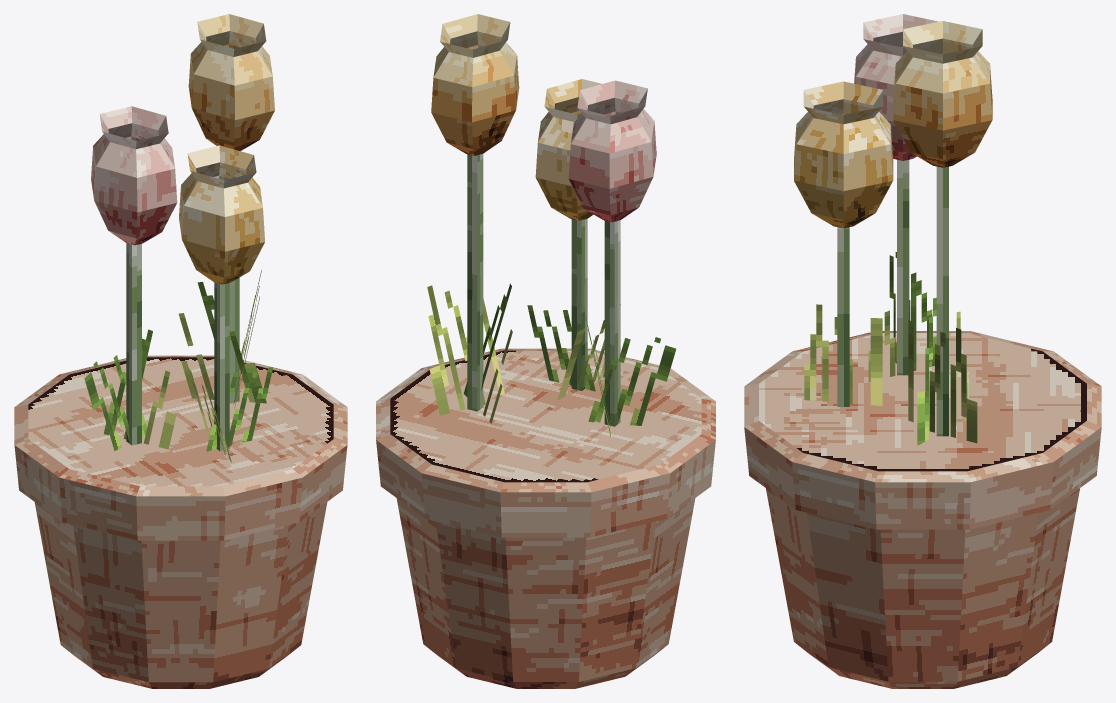
Rendered from potflowers.glb.
The picture shows the model from 3 angles, left to right: view 1: azimuth 30°, elevation 25°; view 2: azimuth 150°, elevation 25°; view 3: azimuth 270°, elevation 25°; orthographic projection. The views are drawn at different scales.
Parts seen in each view (by area): view 1: pot, tulip2_head, tulip0_head, tulip1_head, tulip0_stem, tulip2_stem, tulip1_leaf0, tulip0_leaf1, tulip0_leaf0, tulip2_leaf1, tulip1_stem, tulip2_leaf0; view 2: pot, tulip0_head, tulip1_head, tulip2_head, tulip1_stem, tulip0_stem, tulip1_leaf1, tulip2_stem, tulip0_leaf0, tulip2_leaf1, tulip1_leaf0, tulip2_leaf0; view 3: pot, tulip2_head, tulip1_head, tulip0_head, tulip1_stem, tulip1_leaf1, tulip2_leaf0, tulip0_stem, tulip2_stem, tulip0_leaf1, tulip1_leaf0.
Boxes of the visible parts, <box> form: pot: <box>14,355,347,688</box>; tulip2_head: <box>179,145,264,284</box>; tulip0_head: <box>91,106,177,245</box>; tulip1_head: <box>188,14,274,150</box>; tulip0_stem: <box>126,243,141,445</box>; tulip2_stem: <box>214,282,229,450</box>; tulip1_leaf0: <box>178,282,266,403</box>; tulip0_leaf1: <box>103,329,176,449</box>; tulip0_leaf0: <box>84,355,146,450</box>; tulip2_leaf1: <box>206,367,272,451</box>; tulip1_stem: <box>229,277,239,403</box>; tulip2_leaf0: <box>187,367,231,462</box>; pot: <box>376,348,715,688</box>; tulip0_head: <box>568,80,656,222</box>; tulip1_head: <box>431,14,519,155</box>; tulip2_head: <box>535,79,601,220</box>; tulip1_stem: <box>467,154,483,411</box>; tulip0_stem: <box>604,220,620,426</box>; tulip1_leaf1: <box>427,285,504,415</box>; tulip2_stem: <box>571,218,587,390</box>; tulip0_leaf0: <box>588,337,676,425</box>; tulip2_leaf1: <box>527,305,595,391</box>; tulip1_leaf0: <box>463,283,512,423</box>; tulip2_leaf0: <box>557,304,620,399</box>; pot: <box>744,331,1101,688</box>; tulip2_head: <box>794,81,893,228</box>; tulip1_head: <box>893,21,992,167</box>; tulip0_head: <box>854,14,938,160</box>; tulip1_stem: <box>936,166,948,436</box>; tulip1_leaf1: <box>908,320,977,443</box>; tulip2_leaf0: <box>804,304,882,405</box>; tulip0_stem: <box>897,159,909,375</box>; tulip2_stem: <box>837,227,849,406</box>; tulip0_leaf1: <box>868,272,936,382</box>; tulip1_leaf0: <box>917,297,968,445</box>.
Size of the model in its own units: 0.45 by 0.8812 by 0.45.
Materials: 2 (2 with a texture image).
